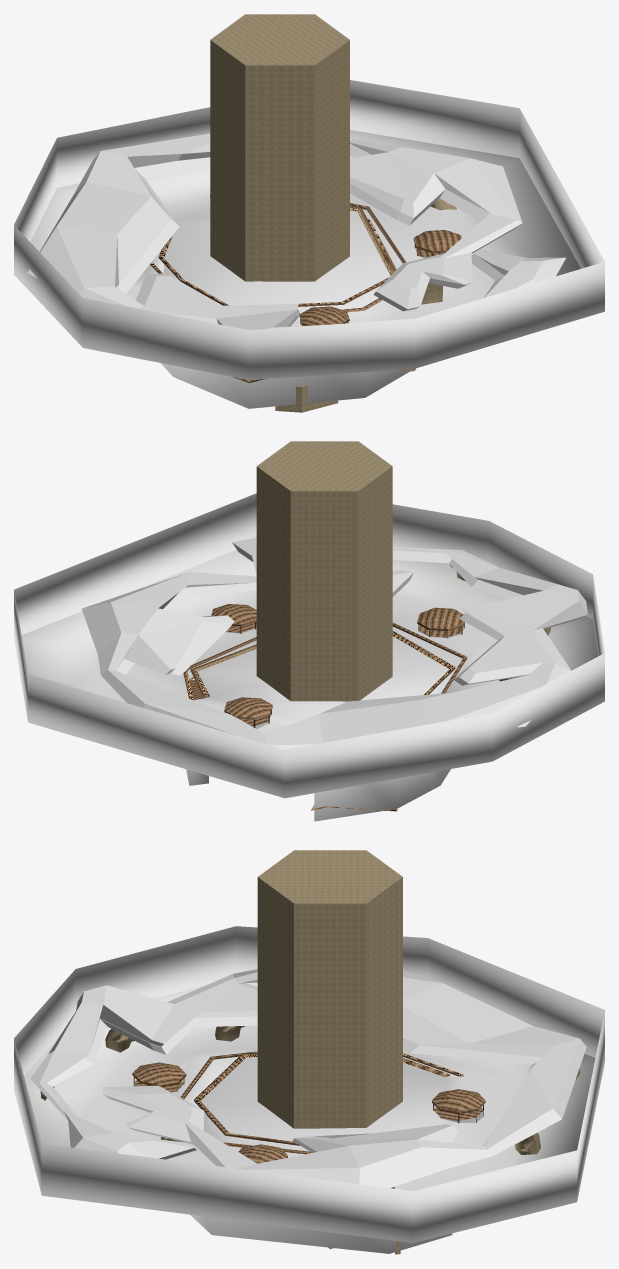
File: TowerGroundLevel.fbx
3 views of the same model, one above another, from view 1: azimuth 30°, elevation 25°; view 2: azimuth 150°, elevation 25°; view 3: azimuth 270°, elevation 25° (orthographic). The views are drawn at different scales.
Visible parts, largest first — view 1: landmass, fence; view 2: landmass, fence; view 3: landmass, fence.
Boxes of the visible parts, box(x1,y1,x2,y2) form: landmass: box(27, 14, 580, 412); fence: box(14, 80, 604, 380); landmass: box(21, 441, 598, 821); fence: box(14, 493, 604, 798); landmass: box(24, 850, 595, 1254); fence: box(14, 926, 604, 1242).
Bounding box in the file's own units: 136546 × 78239 × 128730.
